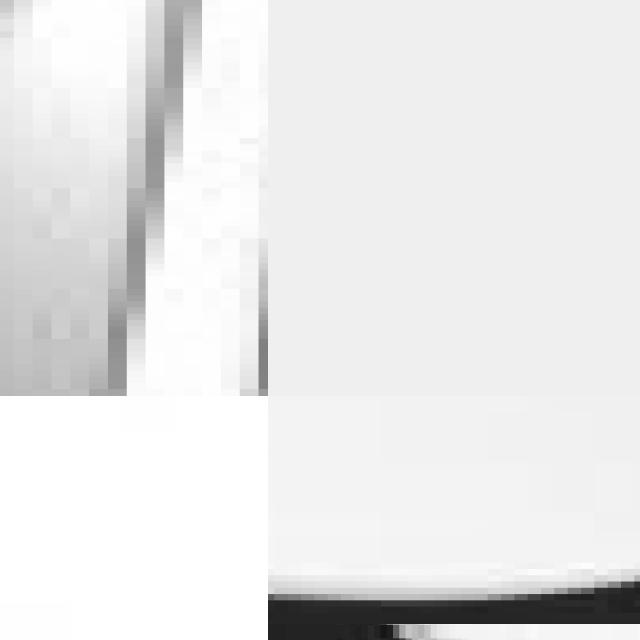forks: (268, 396, 640, 640)
spoons: (0, 0, 268, 396)
